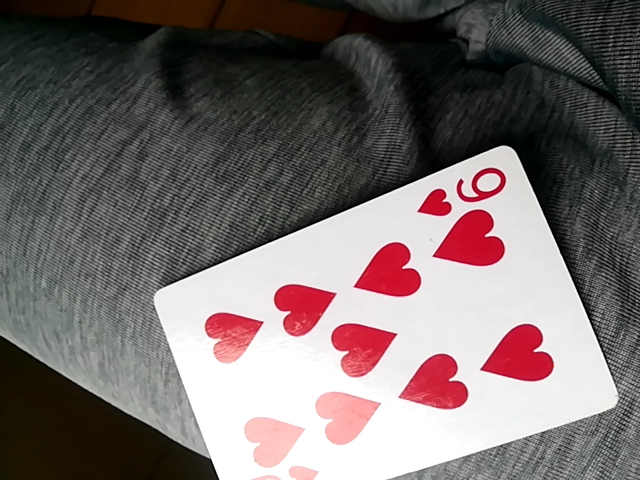hx 9: (156, 142, 616, 480)
